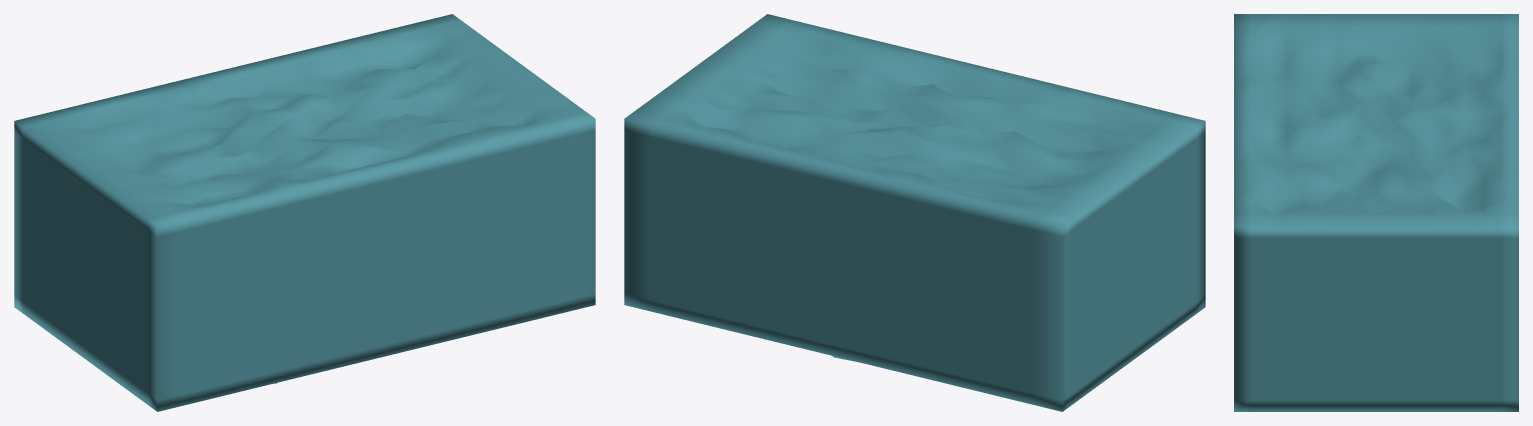
The model's file is glassbrick.dae.
3 views of the same model, side by side, from view 1: azimuth 30°, elevation 25°; view 2: azimuth 150°, elevation 25°; view 3: azimuth 270°, elevation 25° (orthographic).
Parts seen in each view (by area): view 1: glassbrick; view 2: glassbrick; view 3: glassbrick.
Boxes of the visible parts, x1,y1,x2,y2 form: glassbrick: (14, 14, 595, 411); glassbrick: (624, 14, 1205, 411); glassbrick: (1234, 14, 1518, 411).
Size of the model in its own units: 2 by 1.13 by 0.9156.
